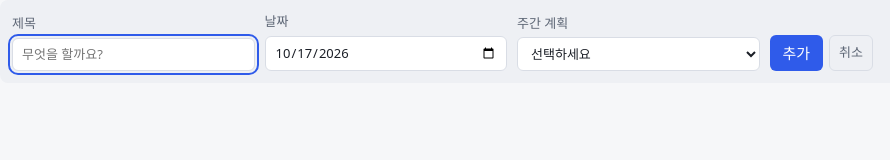
Test: TodoForm › 주간 계획을 고르지 않으면 검증 오류를 보이고 제출하지 않는다
The width and height of the screenshot is (890, 160).
Type "운동" into the field labelled "제목".
click(133, 54); type("운동")  # box [12, 38, 254, 71]
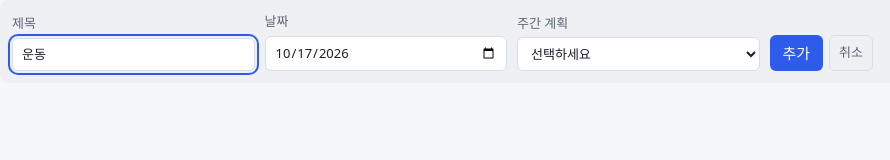
Click the button "추가".
click(796, 53)  # box [770, 34, 823, 71]
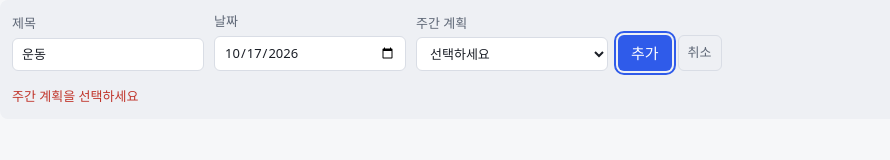
Check: the message reads "주간 계획을 선택하세요", box [12, 87, 138, 105]
